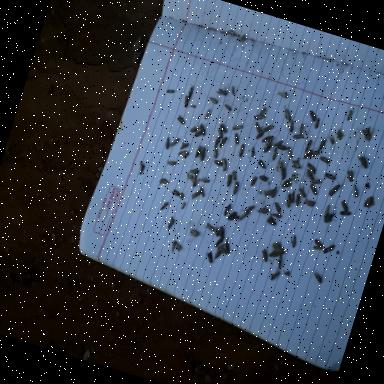pbw: (317, 200, 330, 219), (213, 224, 227, 240), (240, 200, 256, 214), (309, 270, 324, 284), (327, 182, 340, 198), (225, 210, 239, 224), (356, 156, 370, 170), (252, 112, 268, 124), (188, 188, 200, 204), (344, 167, 356, 183), (221, 201, 232, 218), (304, 160, 318, 173), (302, 139, 312, 157), (197, 144, 207, 162), (322, 241, 334, 256), (236, 209, 248, 224), (272, 90, 288, 101), (192, 141, 202, 158), (230, 122, 243, 135), (261, 122, 275, 134), (258, 248, 270, 262), (306, 182, 318, 196), (286, 233, 297, 248), (236, 143, 245, 161), (160, 196, 170, 212), (286, 188, 296, 204), (165, 216, 175, 232), (230, 181, 240, 197), (312, 235, 324, 248), (279, 180, 292, 192), (271, 201, 283, 214), (202, 250, 214, 263), (295, 186, 308, 198), (181, 95, 191, 110), (250, 120, 262, 132), (267, 270, 279, 282), (306, 110, 318, 122), (218, 158, 228, 172), (255, 206, 269, 216), (322, 171, 336, 181), (338, 208, 352, 218), (344, 108, 354, 122), (213, 237, 224, 249), (195, 186, 206, 198), (264, 214, 276, 225), (175, 113, 186, 125), (201, 222, 214, 232), (350, 184, 360, 197), (282, 108, 292, 121), (265, 134, 274, 148), (317, 138, 326, 152), (172, 241, 183, 252), (304, 168, 314, 180), (168, 136, 178, 148), (287, 118, 295, 133), (273, 244, 285, 254), (176, 149, 188, 159), (169, 187, 181, 197), (262, 142, 272, 154), (218, 122, 228, 134), (284, 146, 294, 158), (302, 198, 314, 208), (197, 124, 207, 136), (231, 132, 240, 145), (224, 174, 232, 188), (222, 240, 232, 251), (258, 105, 268, 116), (260, 133, 270, 144), (228, 170, 238, 181), (187, 166, 198, 176), (338, 200, 349, 210), (274, 160, 284, 171), (294, 193, 302, 206), (162, 137, 170, 150), (310, 148, 320, 158), (256, 159, 266, 169), (188, 124, 198, 134), (187, 228, 198, 237), (215, 128, 224, 139), (186, 87, 193, 101), (270, 147, 277, 161), (250, 174, 258, 186), (318, 156, 330, 164), (291, 132, 303, 140), (290, 160, 302, 168), (211, 147, 219, 159), (257, 174, 269, 182), (212, 136, 220, 148), (312, 118, 320, 130), (203, 108, 210, 121), (254, 130, 263, 140), (166, 158, 176, 167), (192, 177, 200, 188), (310, 177, 321, 185), (248, 146, 256, 157), (212, 226, 220, 237), (198, 177, 210, 184), (219, 136, 226, 148), (270, 184, 276, 198), (269, 211, 281, 218), (138, 164, 145, 176), (136, 160, 144, 170), (212, 159, 222, 167), (180, 140, 188, 150), (158, 178, 168, 186), (278, 170, 286, 180), (208, 96, 218, 104), (213, 250, 221, 260), (276, 144, 287, 151), (274, 139, 282, 148), (298, 122, 304, 134), (222, 104, 232, 111), (228, 86, 236, 94), (193, 130, 201, 138), (284, 176, 292, 184), (165, 88, 174, 95), (220, 248, 230, 254), (216, 243, 224, 250), (186, 174, 194, 180), (188, 104, 196, 108)
